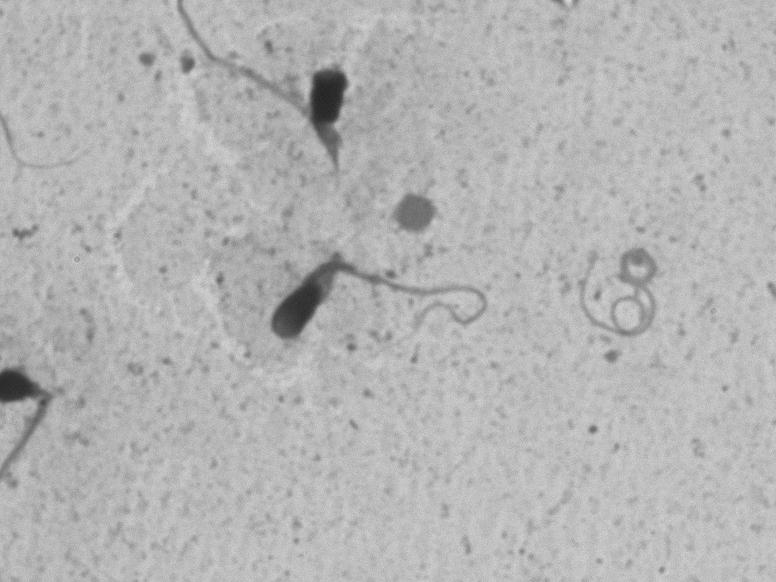Abnormal: (252, 238, 541, 398), (139, 17, 399, 190)
